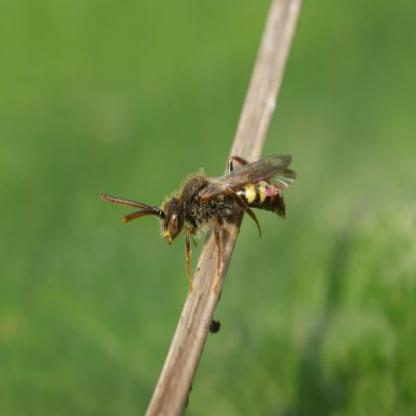sawfly: (93, 151, 300, 275)
